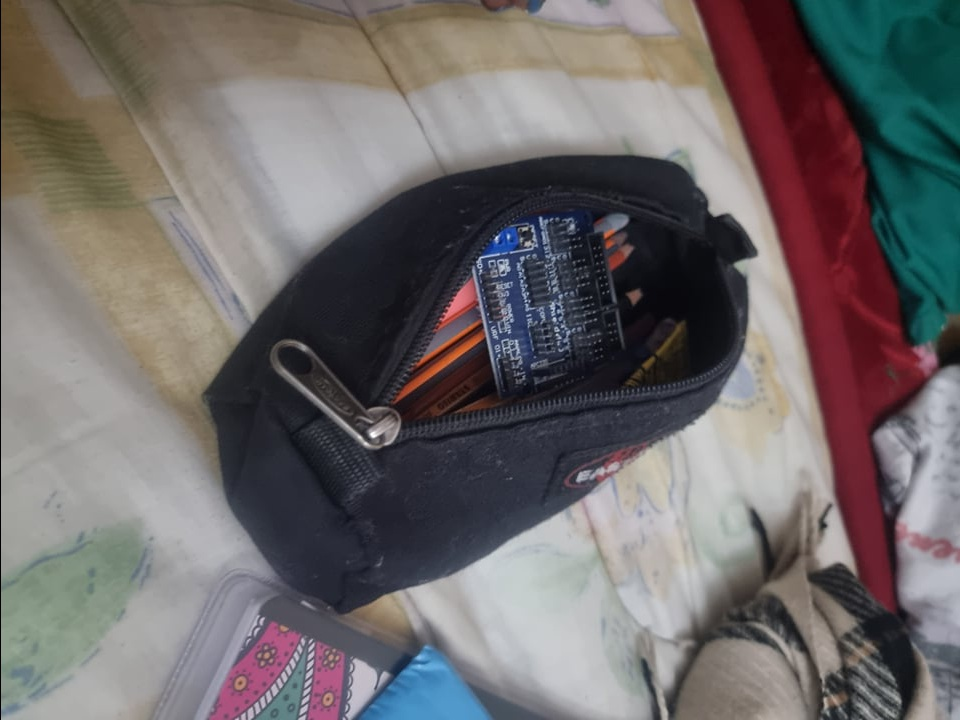5V EXPANSION: (475, 209, 608, 407)
